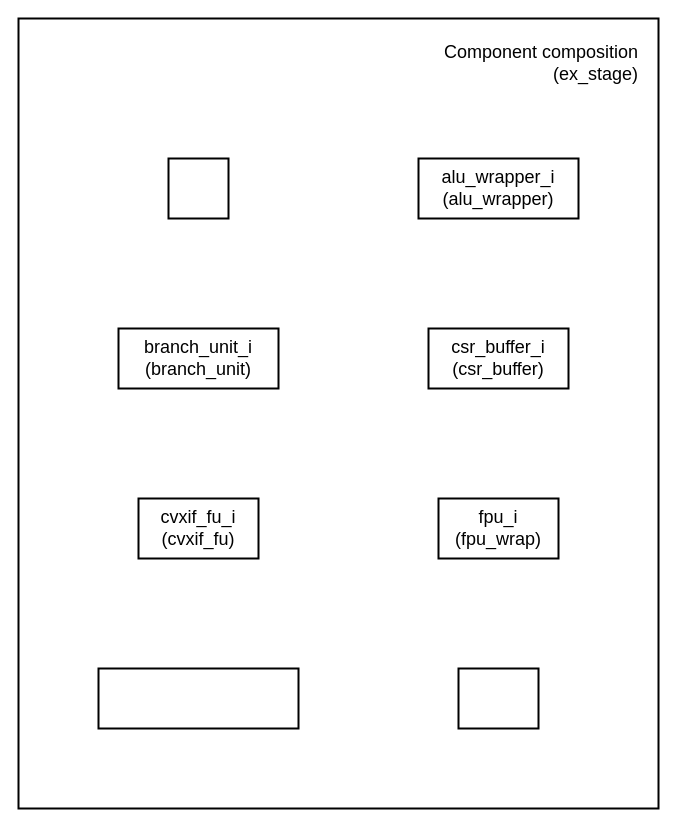
This 676x826 diagram has some shape labels left out. The shapes that lost their labels are listed below. From the top down, each one's centre as x and y in pixels, then its label:
At point 198,188: "aes_i (aes)".
At point 198,698: "lsu_i (load_store_unit)".
At point 498,698: "i_mult (mult)".
